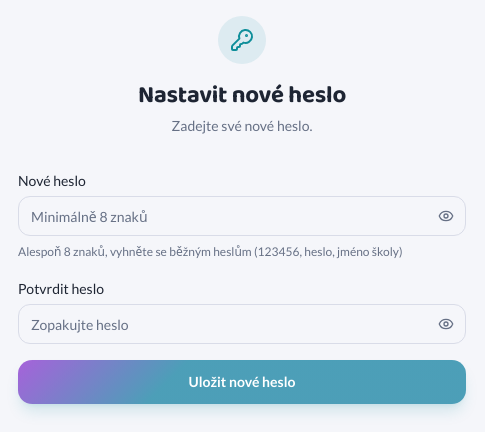
Test: ResetHeslo › úspěch přesměruje na /auth
Type "Tri-Slova-Za-Sebou" into the password field labelled "Nové heslo" at [242, 216], box [18, 196, 466, 236]
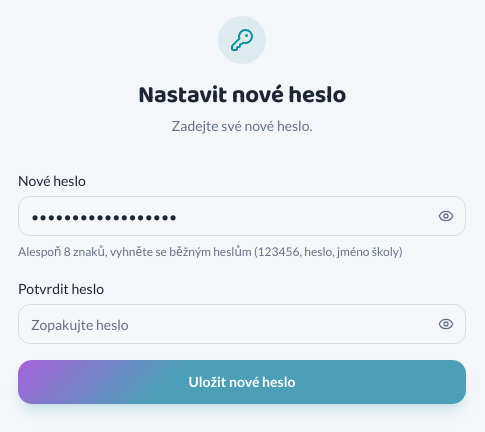
Type "Tri-Slova-Za-Sebou" into the password field labelled "Potvrdit heslo" at [242, 324], box [18, 304, 466, 344]
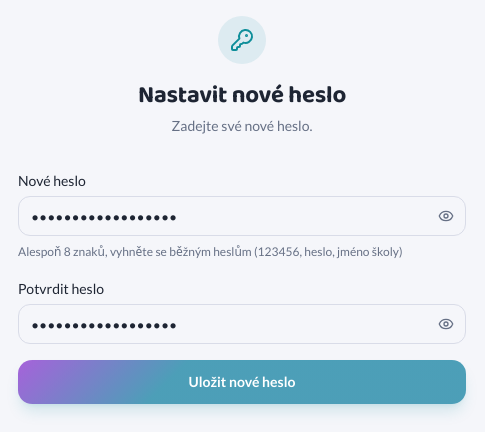
Click the button "Uložit nové heslo" at [242, 382], box [18, 360, 466, 404]
Wait 2500 ms
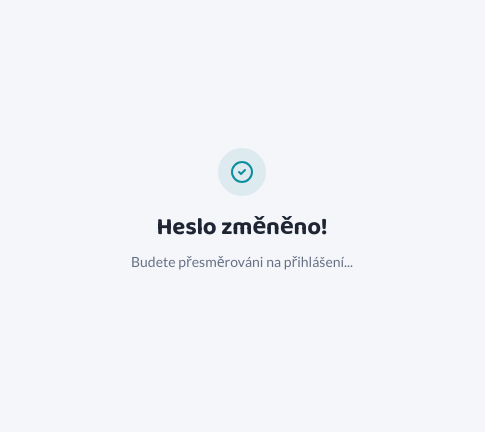
Now the heading "Heslo změněno!" is shown, box [157, 208, 328, 247]
